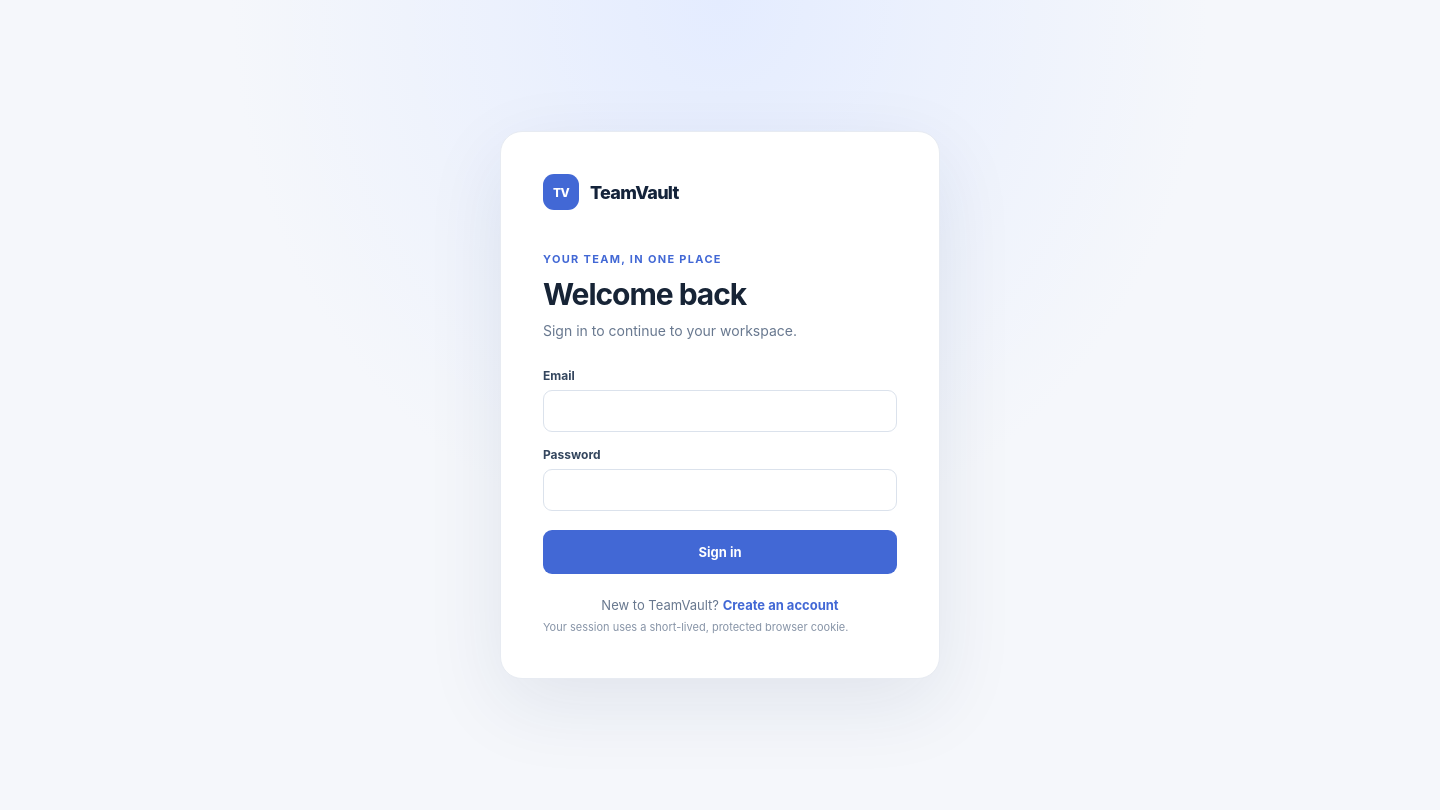
Test case: TeamVault browser workflows › protects application navigation and lets a user log in and out
Check: the heading "Welcome back" is shown, box top-left (543, 276), bottom-right (746, 312)
Type "owner@example.com" into the field labelled "Email".
click(720, 411); type("owner@example.com")  # box top-left (543, 390), bottom-right (897, 432)
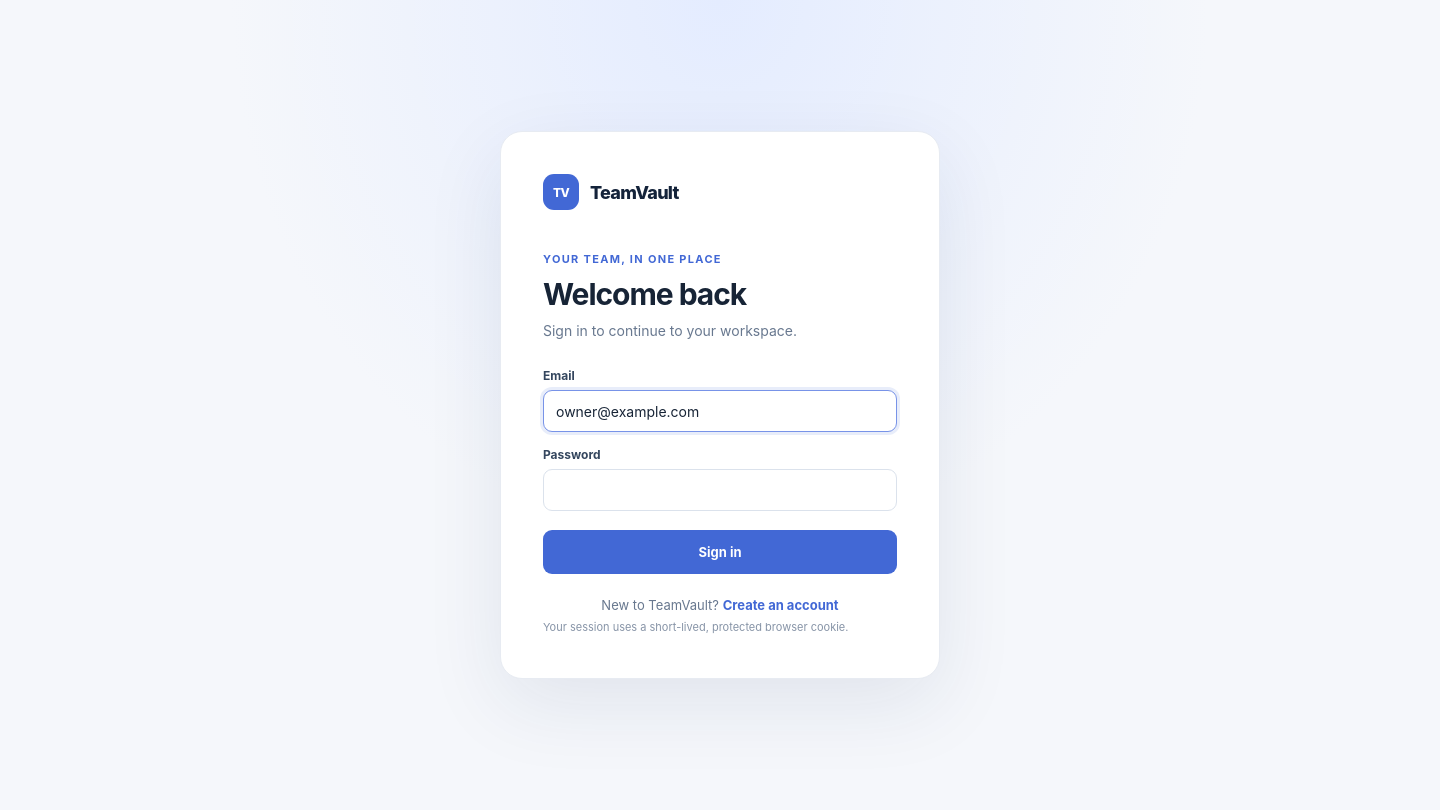
Type "password that is long enough" into the password field labelled "Password".
click(720, 490); type("password that is long enough")  # box top-left (543, 469), bottom-right (897, 511)
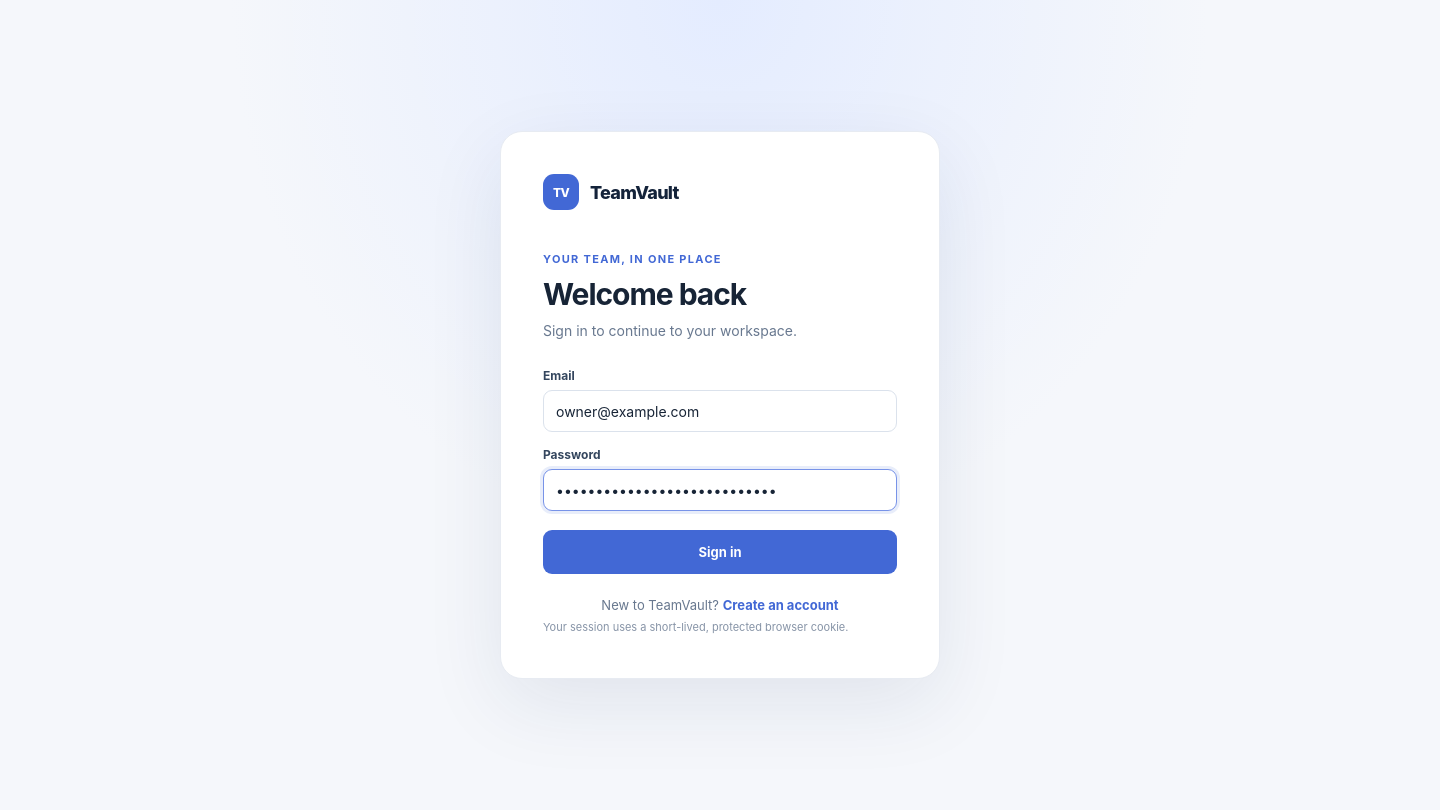
Click the button "Sign in".
click(720, 552)  # box top-left (543, 530), bottom-right (897, 574)
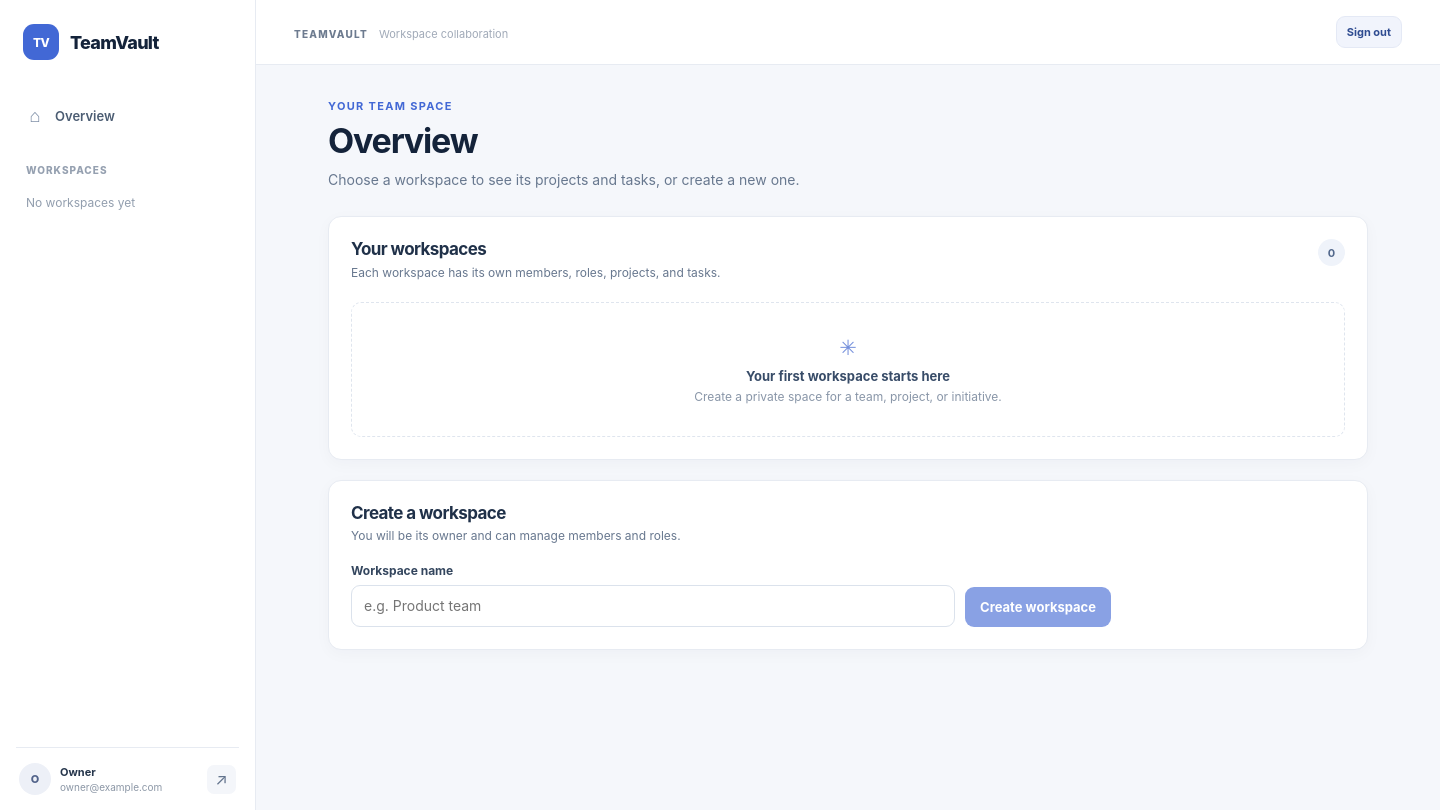
Check: the heading "Overview" is shown, box top-left (328, 120), bottom-right (477, 161)
Click the button named "Sign out".
click(222, 779)  # box top-left (207, 764), bottom-right (236, 794)
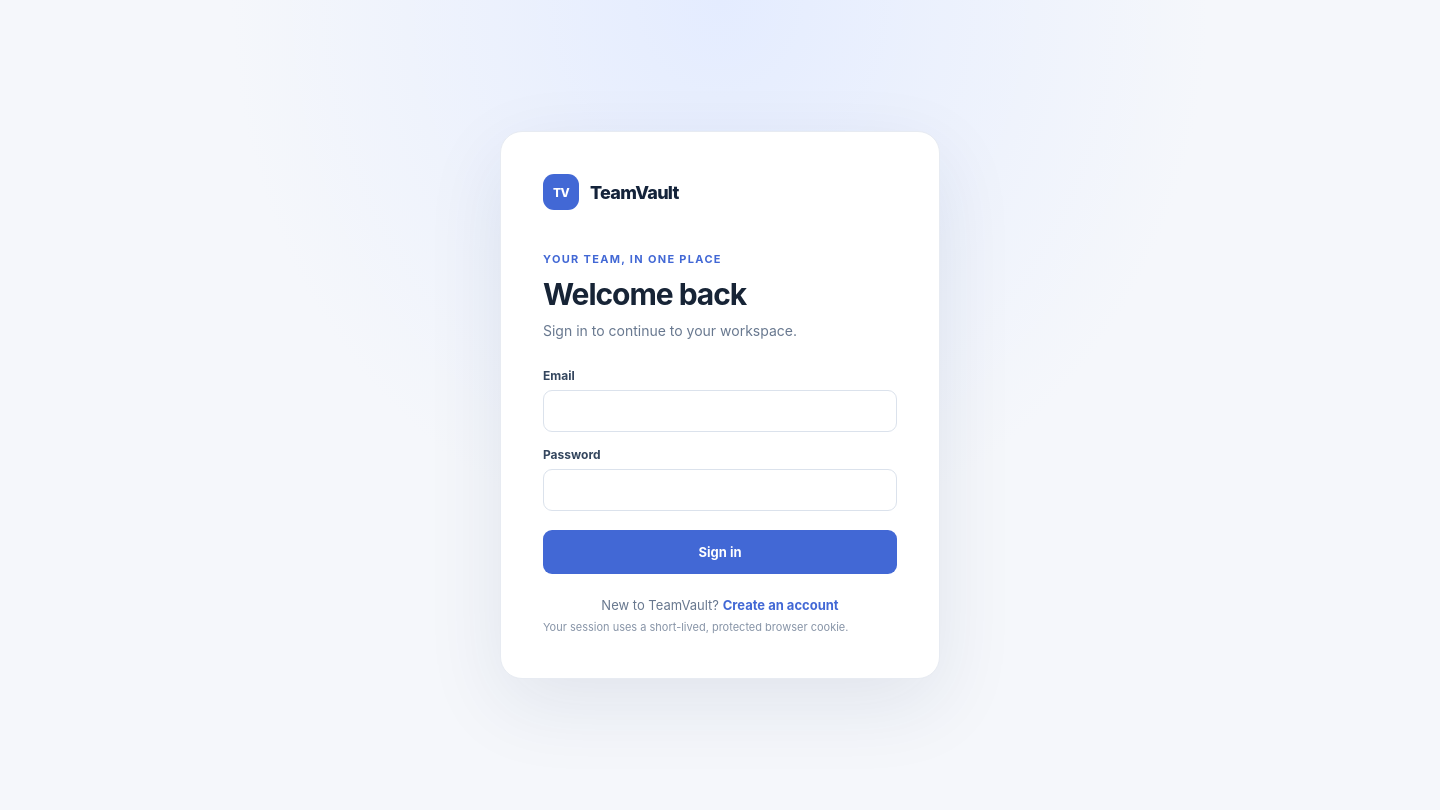
Check: the heading "Welcome back" is shown, box top-left (543, 276), bottom-right (746, 312)
